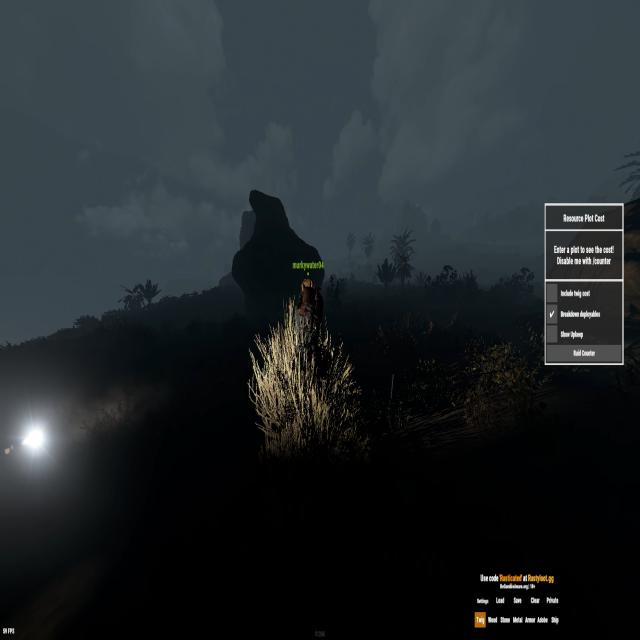Player: (293, 274, 324, 399)
